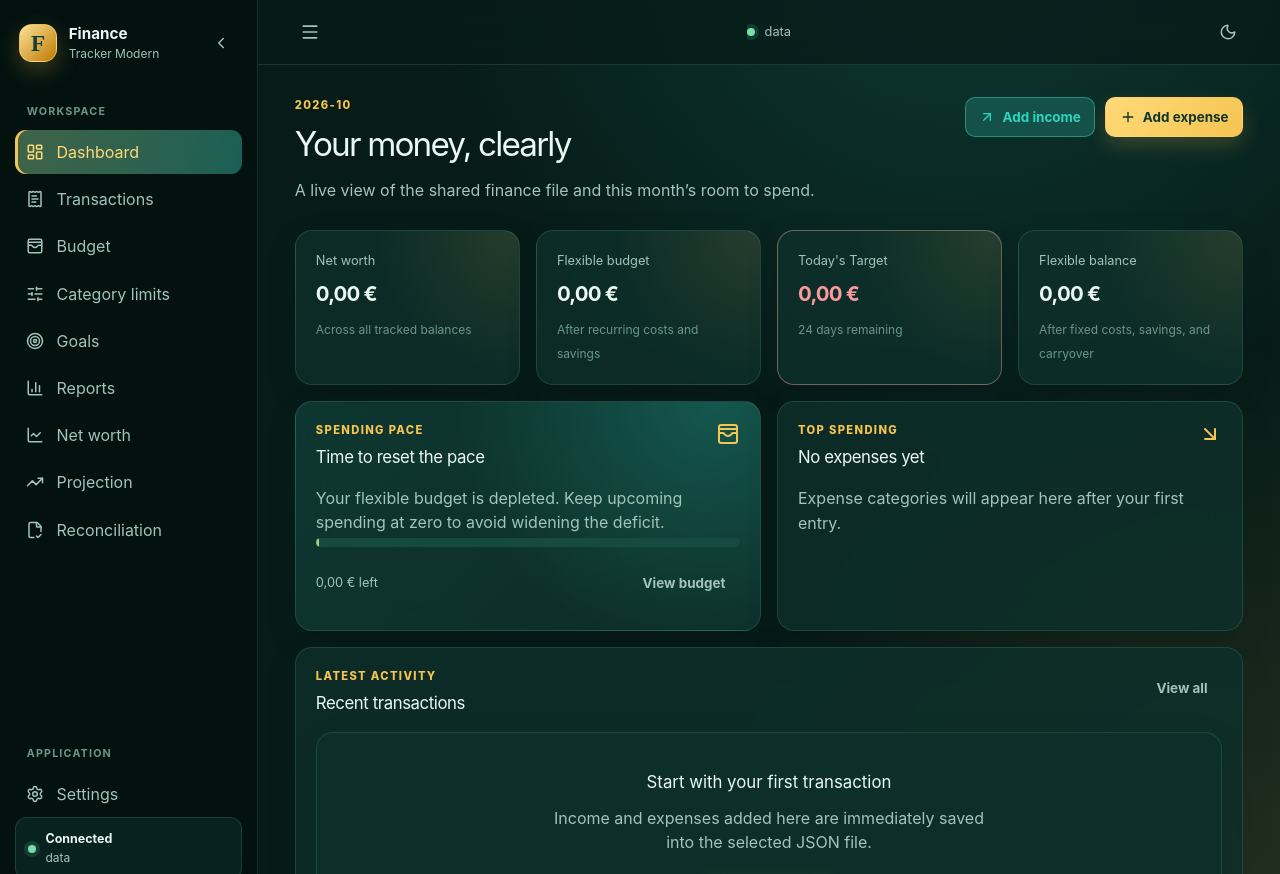
Test case: App navigation › shows category deletion errors and restores the category
Click the button "Category limits" at (128, 294), box [15,272,242,316]
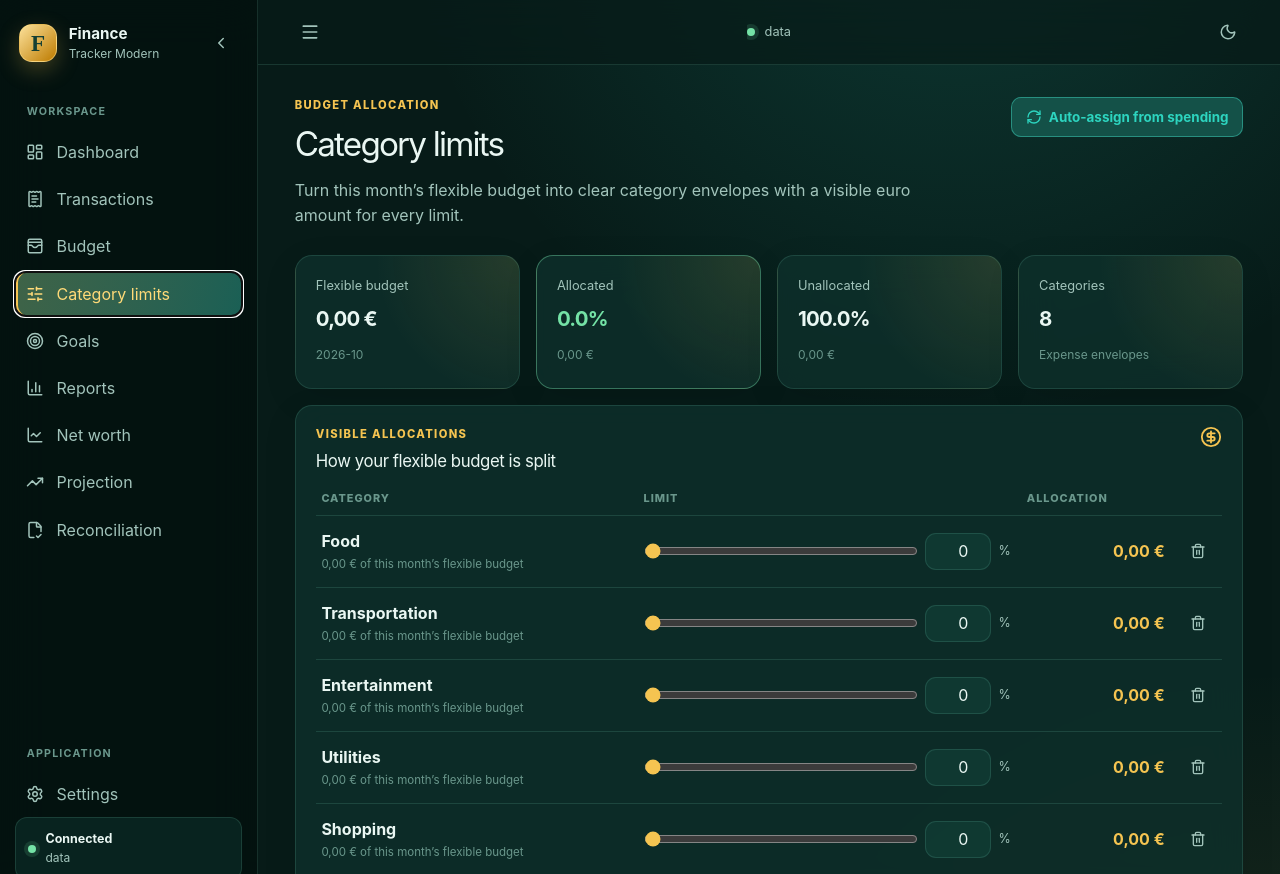
Click the button named "Remove Food" at (1198, 551), box [1181,534,1215,568]
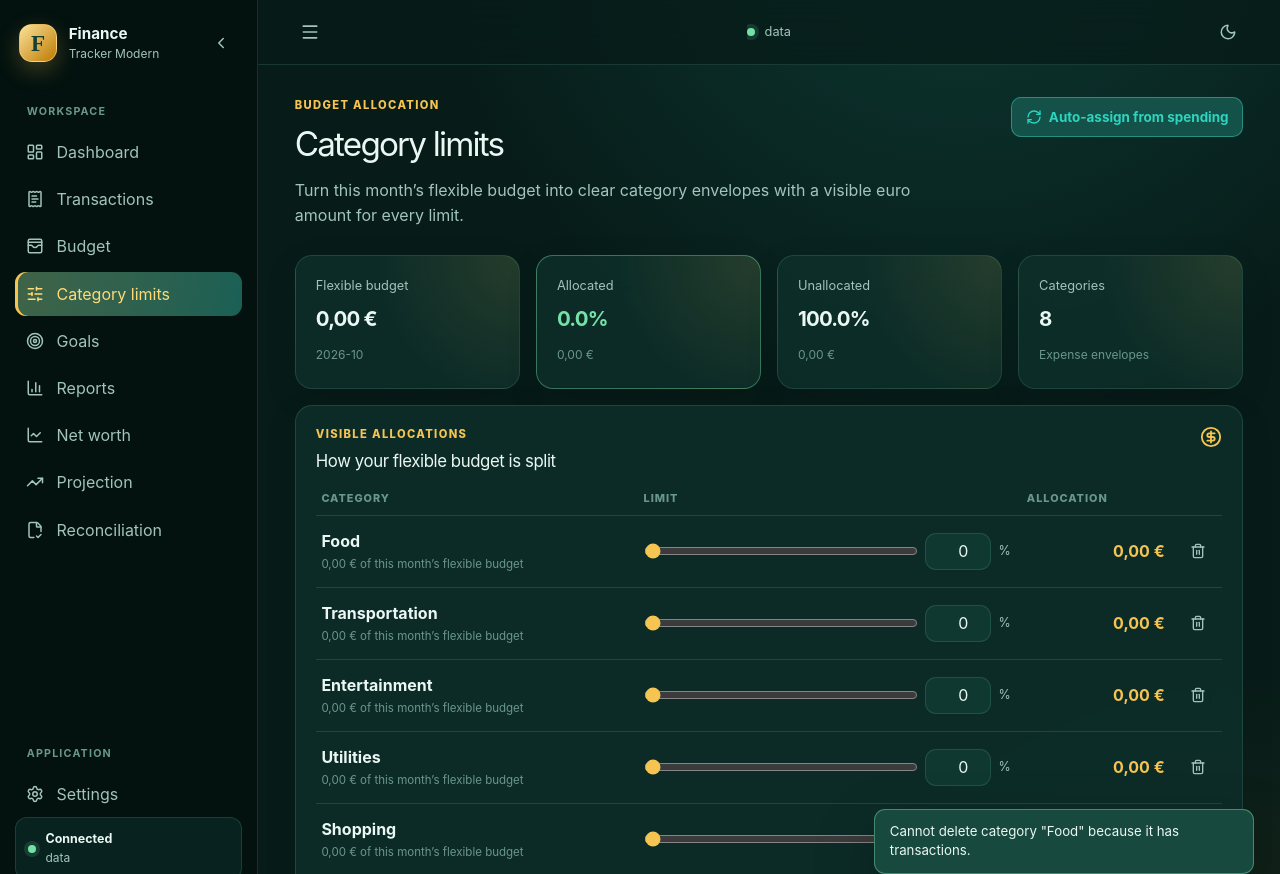
Now the text "Food" is shown, box [321,531,360,551]
Now the message shows "Cannot delete category", box [890,823,1179,858]
